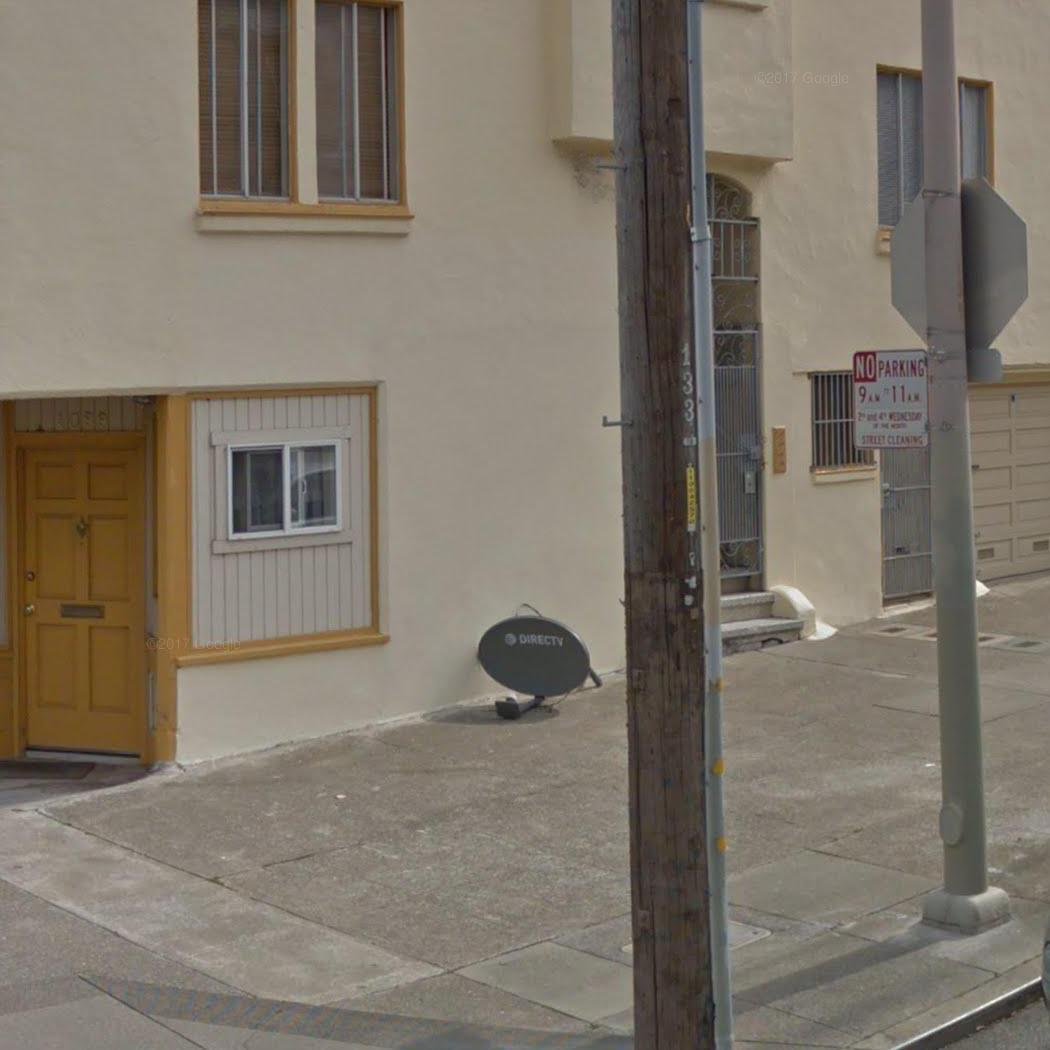No Parking: (849, 347, 932, 454)
